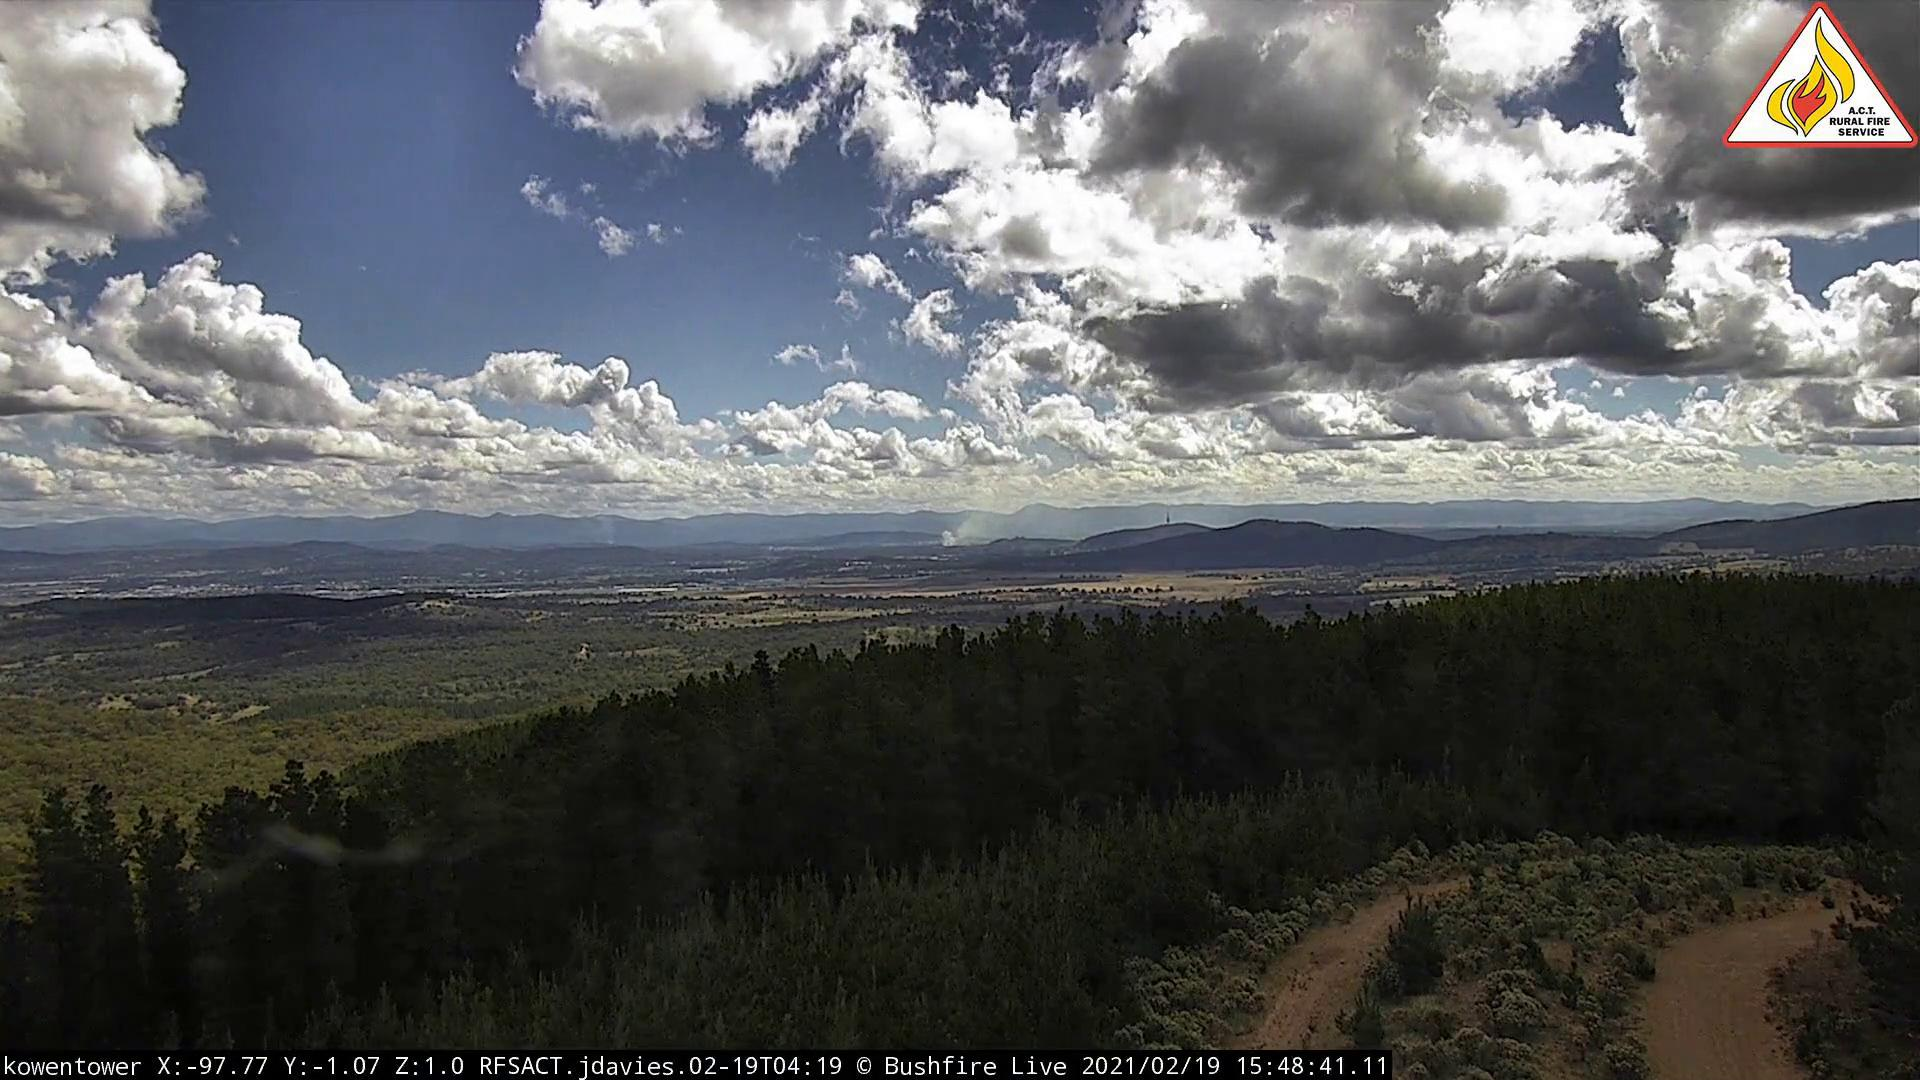Smoke: (938, 502, 1005, 553), (605, 527, 620, 553)
